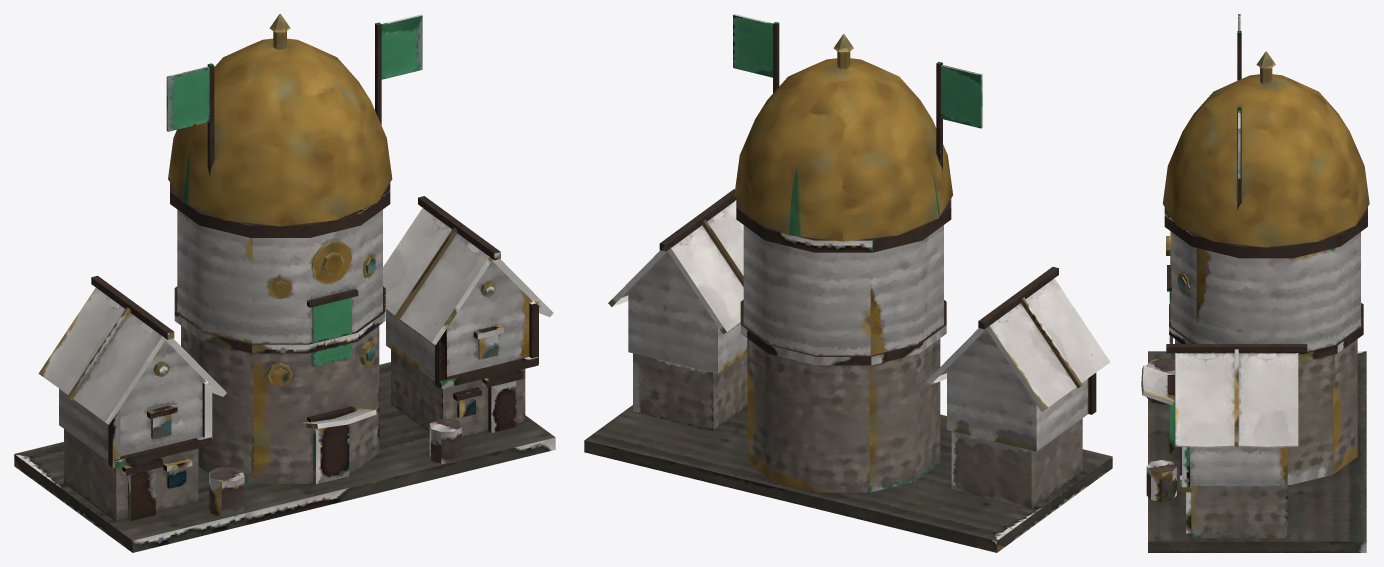
File: pirate_stone_capital_academy.glb
3 renders of one model, left to right at view 1: azimuth 30°, elevation 25°; view 2: azimuth 150°, elevation 25°; view 3: azimuth 270°, elevation 25°, orthographic. The views are drawn at different scales.
Parts seen in each view (by area): view 1: FixedDetails, WoodBody, BrassTrim; view 2: FixedDetails, WoodBody, BrassTrim; view 3: FixedDetails, WoodBody, BrassTrim.
Boxes of the visible parts, x1=… form: FixedDetails: x1=14, y1=14, x2=555, y2=552; WoodBody: x1=38, y1=207, x2=553, y2=460; BrassTrim: x1=153, y1=14, x2=495, y2=386; FixedDetails: x1=584, y1=14, x2=1112, y2=552; WoodBody: x1=608, y1=200, x2=1110, y2=451; BrassTrim: x1=734, y1=34, x2=952, y2=241; FixedDetails: x1=1146, y1=14, x2=1367, y2=552; WoodBody: x1=1141, y1=232, x2=1360, y2=485; BrassTrim: x1=1162, y1=51, x2=1369, y2=294.
Size of the model in its own units: 0.5446 by 0.502 by 0.256.
3 materials, 3 textured.
